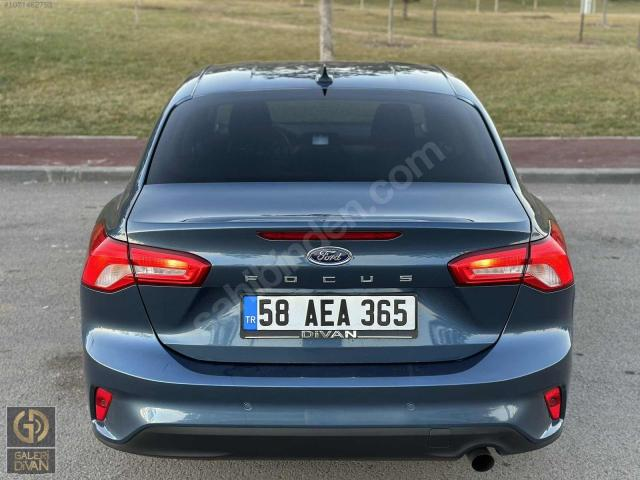plaka: (243, 296, 415, 338)
